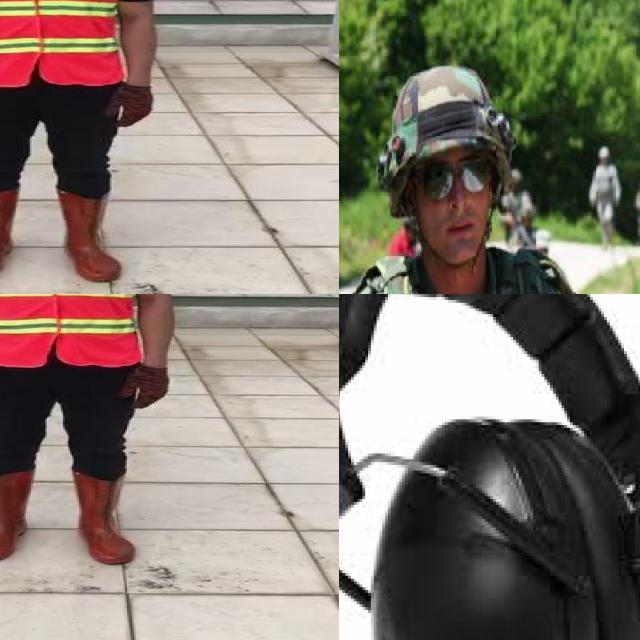Ear-protection: (365, 405, 572, 640)
boots: (55, 190, 126, 282), (68, 471, 138, 564), (0, 469, 38, 561), (0, 188, 15, 280)
face_nomask: (414, 153, 494, 249)
glasses: (410, 155, 492, 204)
hand_glove: (104, 86, 154, 127)
head_helmet: (371, 63, 514, 174)
person: (339, 67, 623, 294), (0, 294, 190, 568), (0, 0, 165, 284), (588, 138, 619, 260)
vest: (0, 0, 124, 86), (0, 294, 139, 368)
